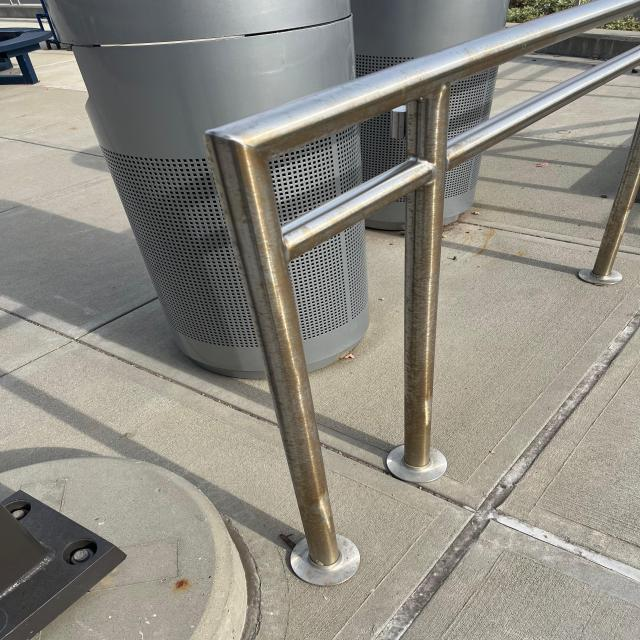Uniform Corrosion: (243, 151, 447, 570)
